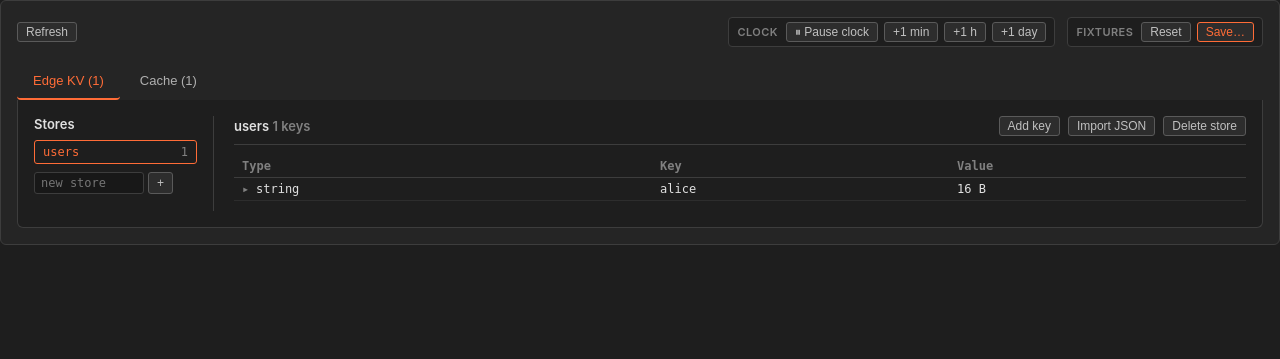
StorageExplorerView › does not offer to edit a value it only has part of
This screenshot has width=1280, height=359.
Click the text "alice" at (800, 189), box [652,178,949,200]
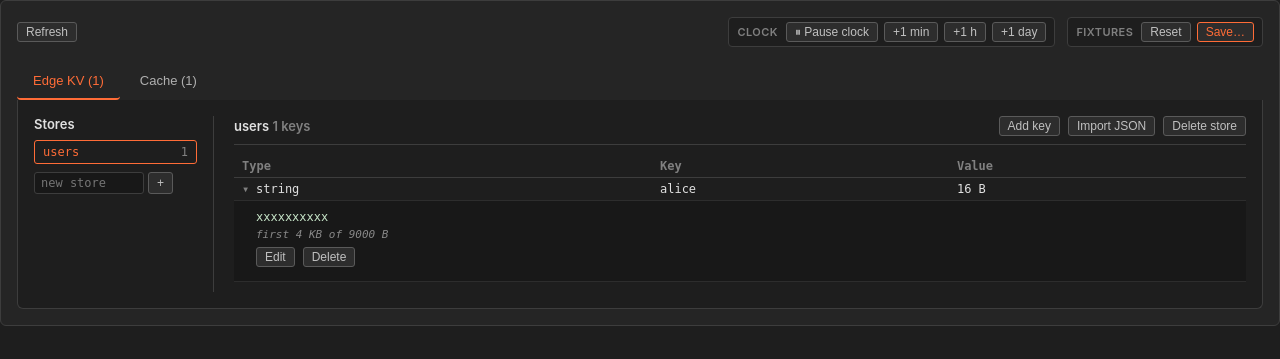
Click the button "Edit" at (275, 257), box [256,247,295,267]
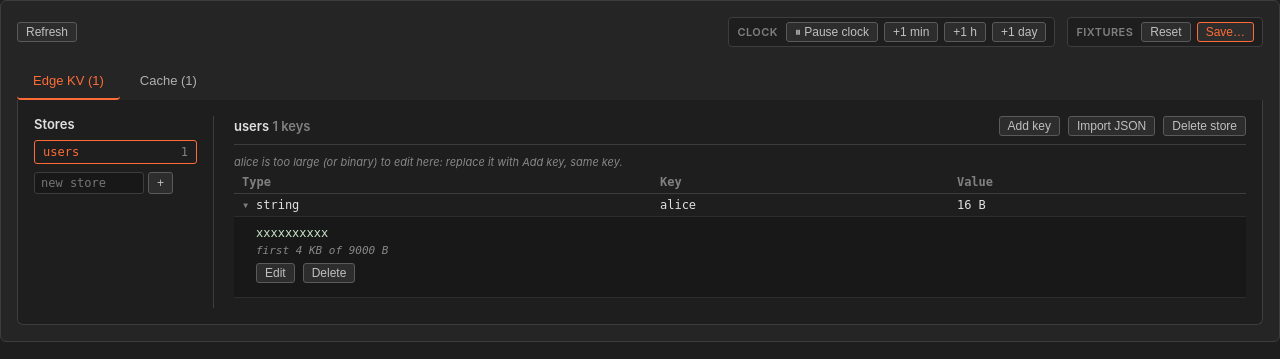
Expected: the text "too large (or binary) to edit here" is shown, [234,155,623,169]
